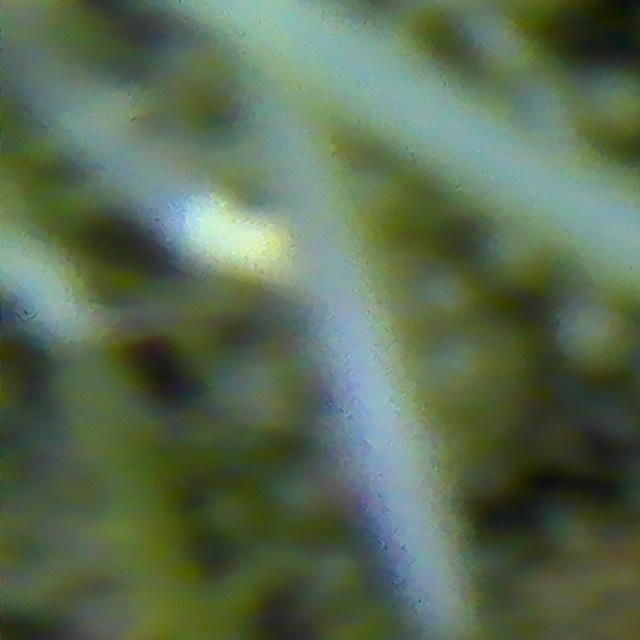SeaGrape: (428, 318, 534, 418), (555, 299, 634, 362), (410, 262, 480, 328), (580, 73, 640, 139)
